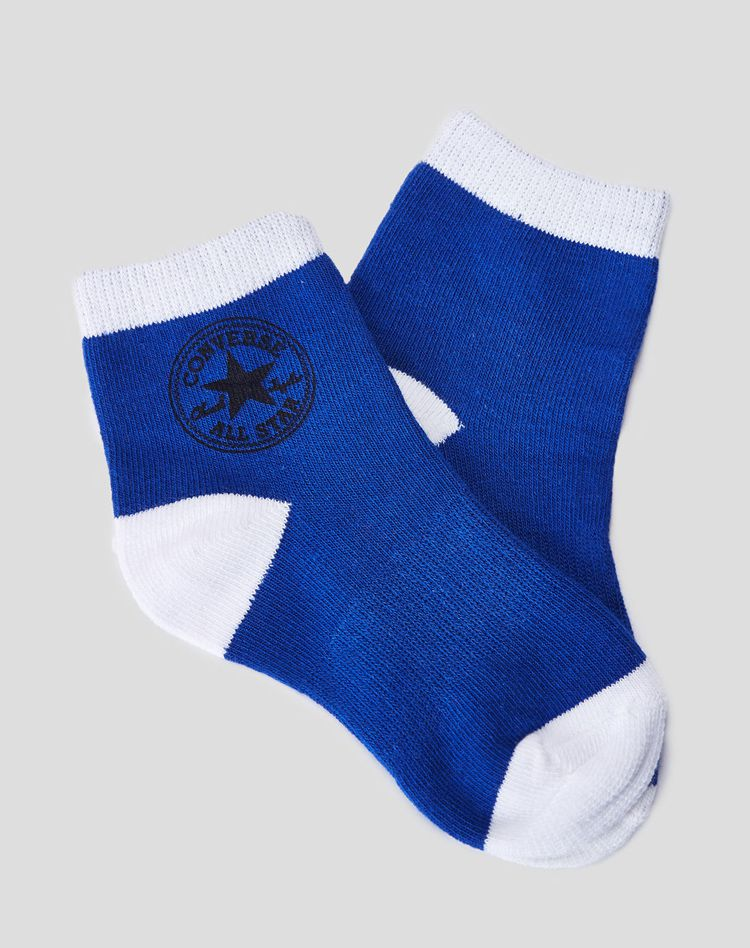flexible: (76, 109, 673, 864)
